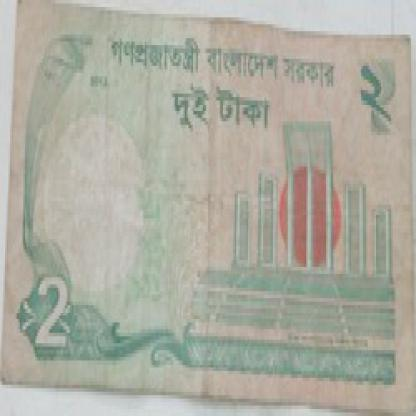two taka: (342, 59, 413, 146), (30, 274, 93, 360)
